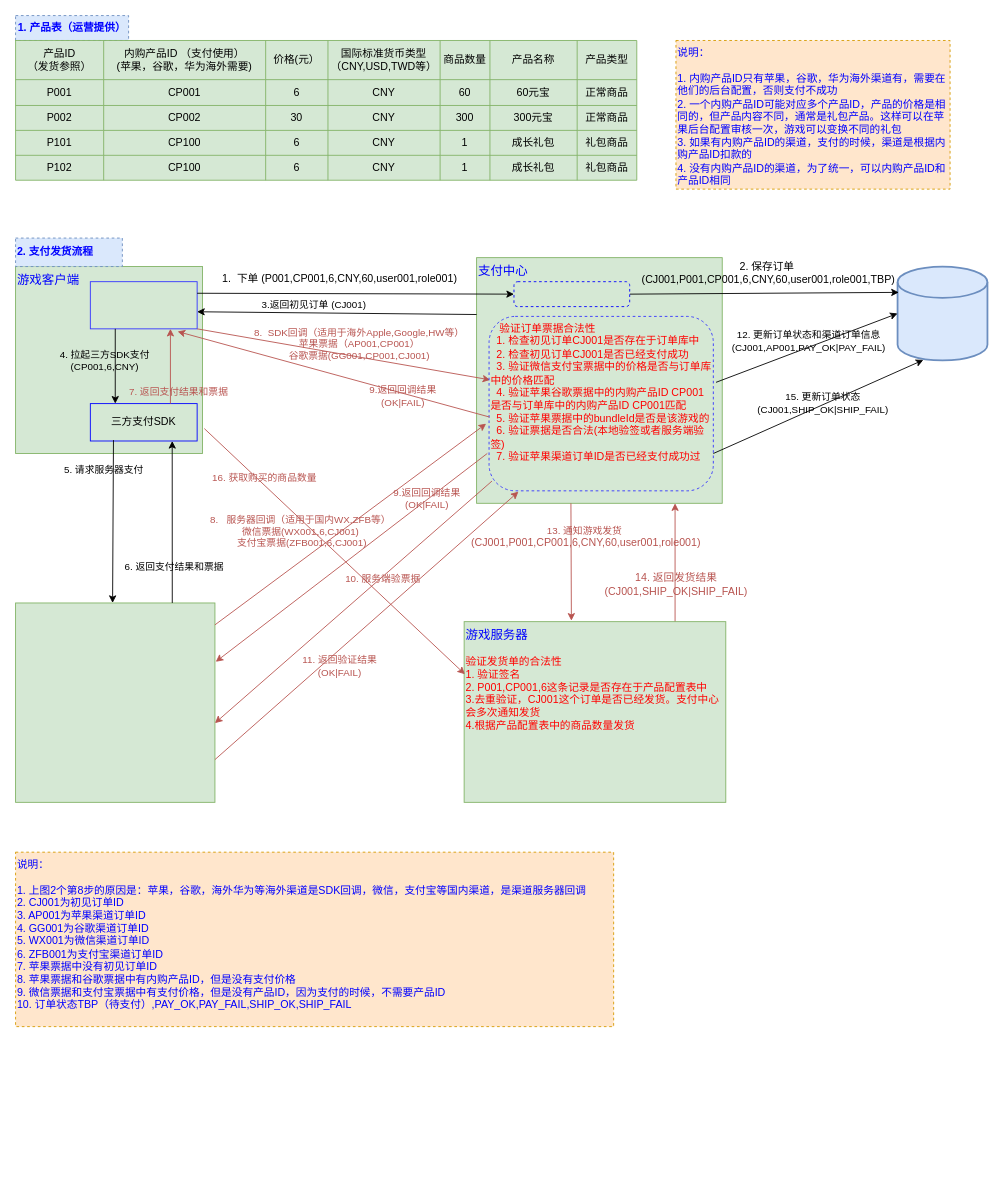
Some shapes in this 1004 by 1199 pixel diagram are drawn without their labels. Here are the shapes that lost their labels. From the top down, the centre of each, then its label:
(143,305): 初见SDK
(571,294): 生成初见订单(CJ001)
(942,313): 订单库
(115,702): 三方渠道支付服务器
